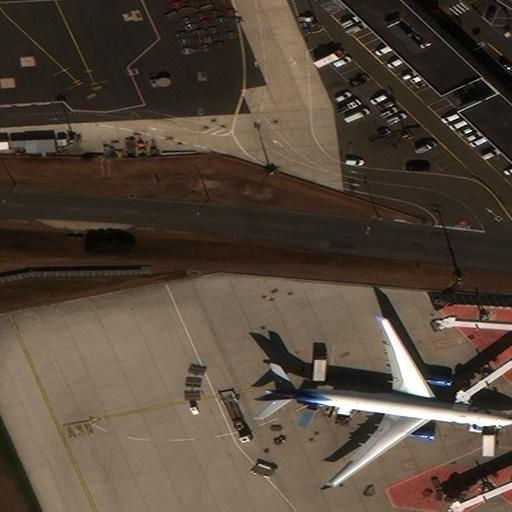Large Civil Transport: (256, 317, 511, 487)
